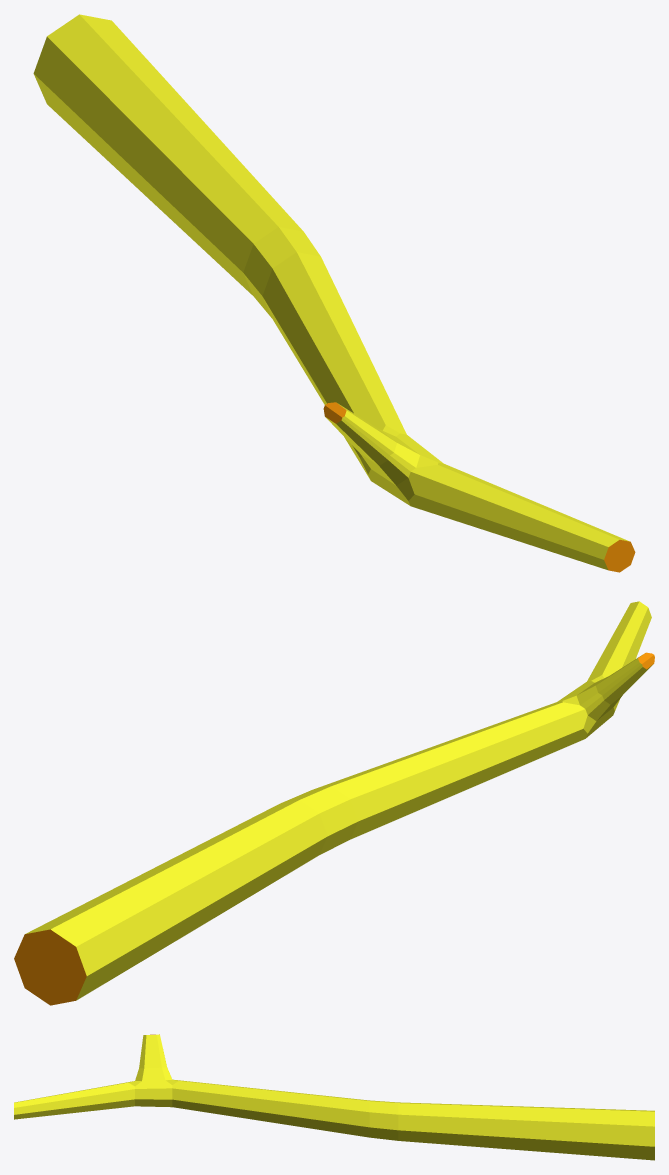
Rendered from Stick_39.fbx.
3 views of the same model, one above another, from view 1: azimuth 30°, elevation 25°; view 2: azimuth 150°, elevation 25°; view 3: azimuth 270°, elevation 25° (orthographic). The views are drawn at different scales.
Parts seen in each view (by area): view 1: Circle.316; view 2: Circle.316; view 3: Circle.316.
Boxes of the visible parts, <box> form: Circle.316: <box>33,14,635,572</box>; Circle.316: <box>14,601,654,1005</box>; Circle.316: <box>14,1034,654,1160</box>.
Bounding box in the file's own units: 11.09 × 4.68 × 41.23.
